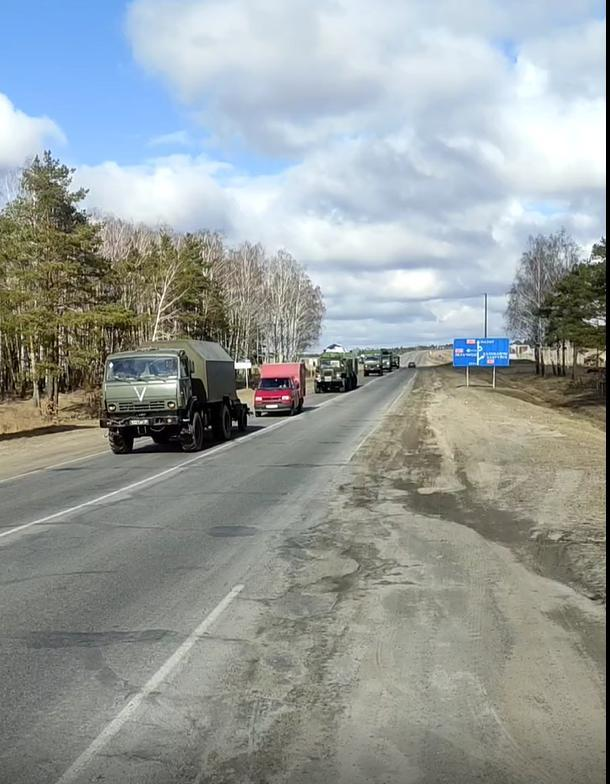car: (251, 356, 311, 417)
truck: (88, 338, 248, 453), (316, 351, 358, 393), (361, 351, 388, 380)
